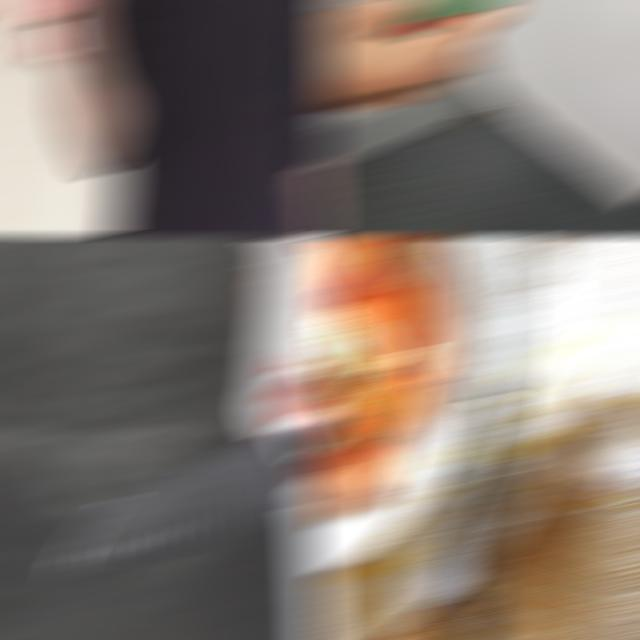Knife: (54, 363, 336, 581)
Knife_Handle: (56, 256, 336, 576)
